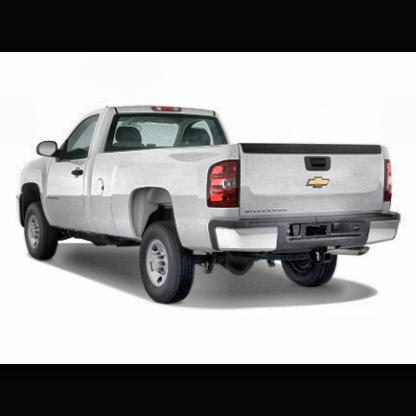Chevrolet Silverado 2500HD Regular Cab 2012: (20, 105, 402, 305)
